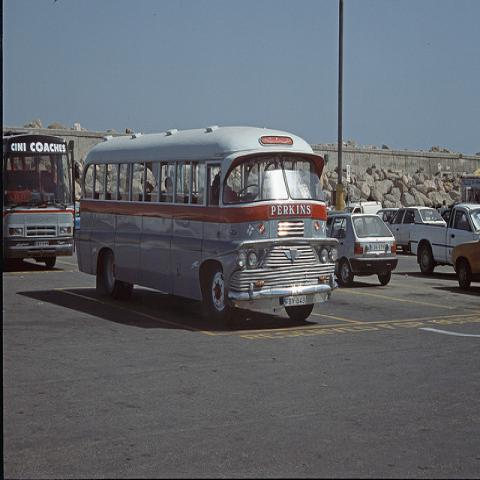bus: (78, 126, 340, 325), (3, 130, 76, 270)
car: (325, 212, 398, 288), (380, 205, 444, 254), (344, 201, 383, 214), (441, 208, 451, 224)
truck: (409, 203, 479, 279), (451, 241, 479, 291)
